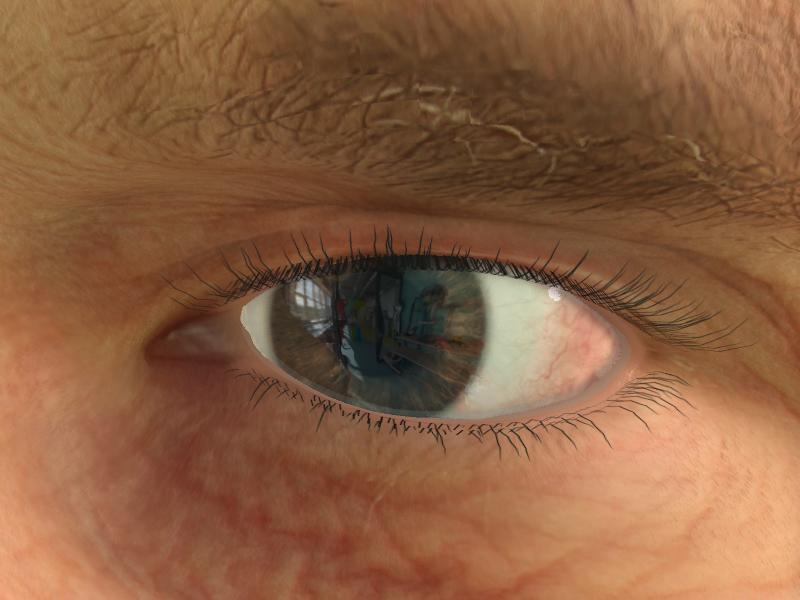eye: (270, 255, 490, 419)
